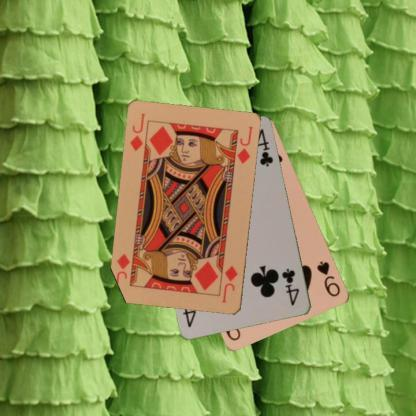4c: (279, 266, 301, 308)
9s: (314, 258, 342, 298)
Jd: (219, 264, 240, 304), (128, 110, 146, 152)
